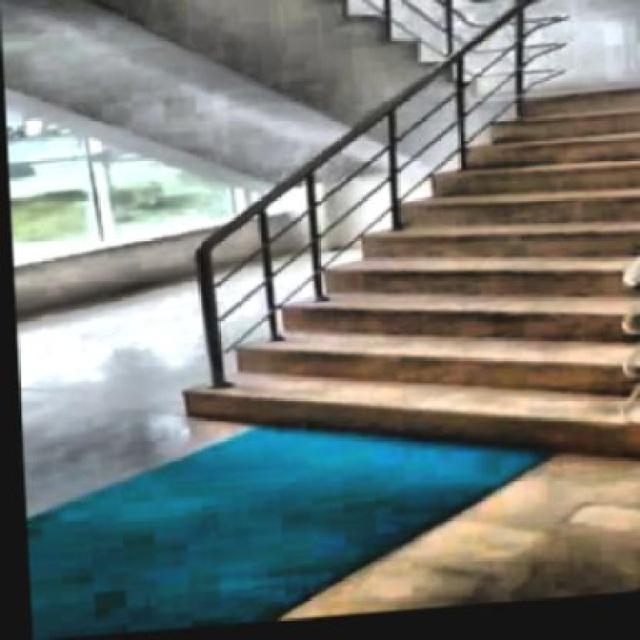stair: (119, 84, 638, 504)
